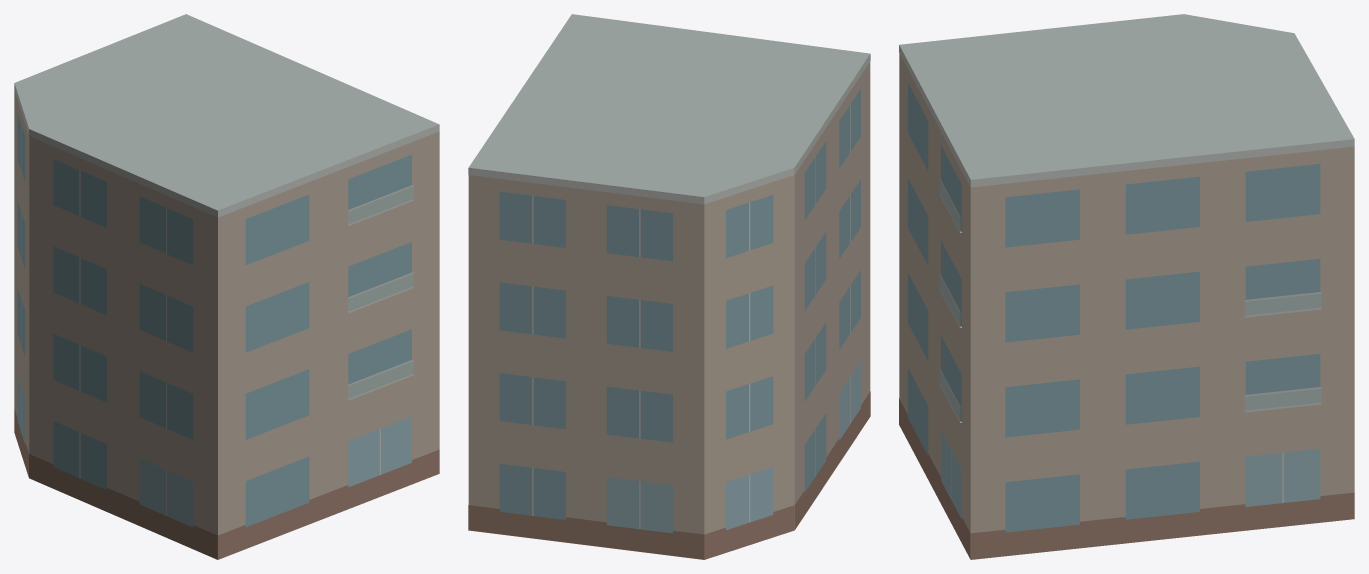
The model's file is survey-upis-32629498.glb.
The picture shows the model from 3 angles, left to right: view 1: azimuth 30°, elevation 25°; view 2: azimuth 150°, elevation 25°; view 3: azimuth 270°, elevation 25°; orthographic projection. The views are drawn at different scales.
Parts seen in each view (by area): view 1: survey-upis-32629498.tmp; view 2: survey-upis-32629498.tmp; view 3: survey-upis-32629498.tmp.
Boxes of the visible parts, left/top/right/bottom form: survey-upis-32629498.tmp: left=14, top=14, right=439, bottom=559; survey-upis-32629498.tmp: left=468, top=14, right=870, bottom=559; survey-upis-32629498.tmp: left=899, top=14, right=1354, bottom=559.
Size of the model in its own units: 11.43 by 12.2 by 13.27.
